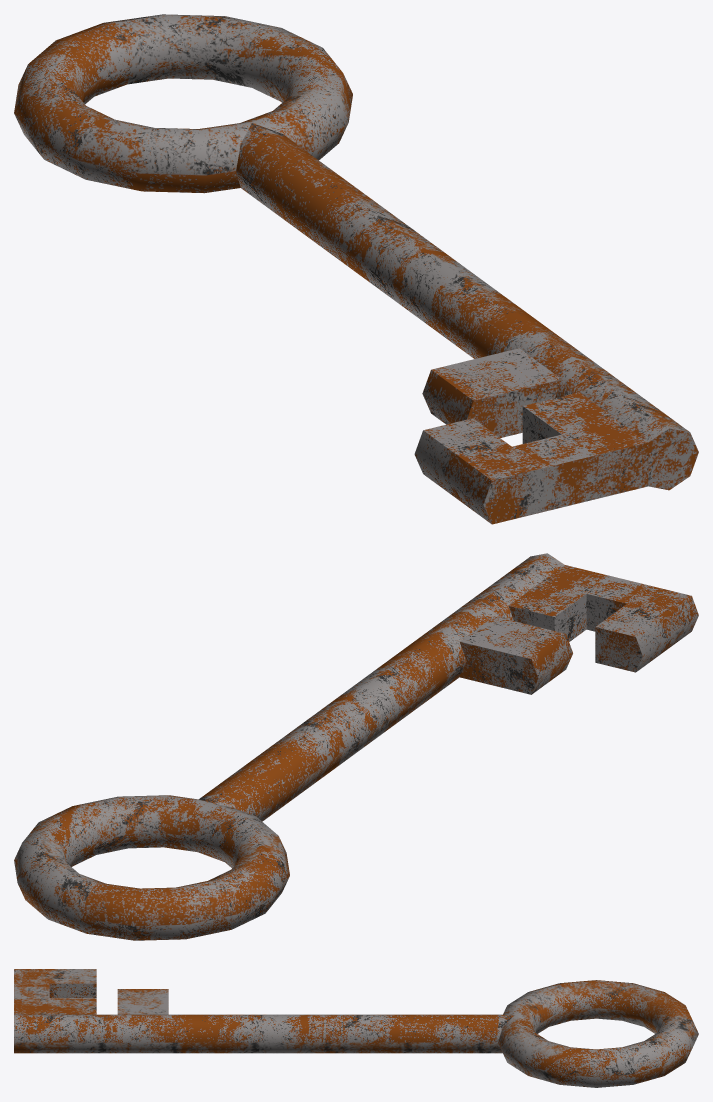
The model's file is SM_Key_01.fbx.
3 renders of one model, top to bottom at view 1: azimuth 30°, elevation 25°; view 2: azimuth 150°, elevation 25°; view 3: azimuth 270°, elevation 25°, orthographic. The views are drawn at different scales.
Parts seen in each view (by area): view 1: SM_Key_01; view 2: SM_Key_01; view 3: SM_Key_01.
Part boxes in pixels (x1,y1,x2,y2): SM_Key_01: (14,14,698,524); SM_Key_01: (14,553,698,940); SM_Key_01: (14,969,698,1087).
Bounding box in the file's own units: 8.69 × 25.73 × 1.54.
